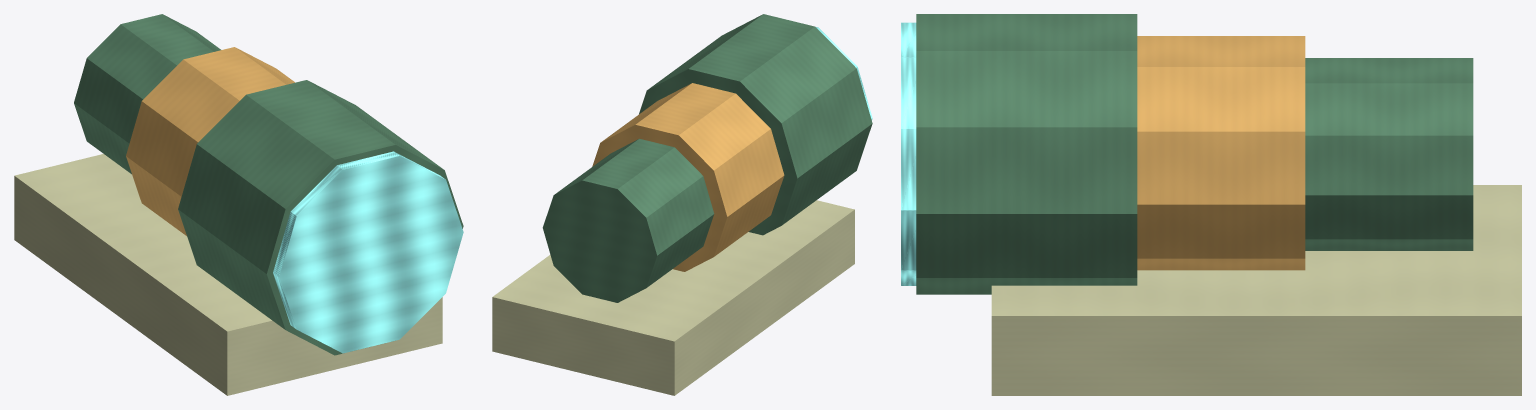
Rendered from atlas100-s003-a05.glb.
3 views of the same model, side by side, from view 1: azimuth 30°, elevation 25°; view 2: azimuth 150°, elevation 25°; view 3: azimuth 270°, elevation 25° (orthographic). The views are drawn at different scales.
Visible parts, largest first — view 1: atlas100-s003-a05:part-004, atlas100-s003-a05:part-003, atlas100-s003-a05:part-002, atlas100-s003-a05:part-001, atlas100-s003-a05:part-000; view 2: atlas100-s003-a05:part-004, atlas100-s003-a05:part-002, atlas100-s003-a05:part-000, atlas100-s003-a05:part-001; view 3: atlas100-s003-a05:part-004, atlas100-s003-a05:part-002, atlas100-s003-a05:part-001, atlas100-s003-a05:part-000, atlas100-s003-a05:part-003.
Boxes of the visible parts, <box> form: atlas100-s003-a05:part-004: <box>14,154,442,395</box>; atlas100-s003-a05:part-003: <box>273,151,463,353</box>; atlas100-s003-a05:part-002: <box>178,80,463,355</box>; atlas100-s003-a05:part-001: <box>126,47,294,235</box>; atlas100-s003-a05:part-000: <box>74,14,220,174</box>; atlas100-s003-a05:part-004: <box>492,200,854,395</box>; atlas100-s003-a05:part-002: <box>639,14,872,235</box>; atlas100-s003-a05:part-000: <box>542,138,714,302</box>; atlas100-s003-a05:part-001: <box>592,83,784,271</box>; atlas100-s003-a05:part-004: <box>991,185,1521,395</box>; atlas100-s003-a05:part-002: <box>916,14,1137,294</box>; atlas100-s003-a05:part-001: <box>1137,36,1305,270</box>; atlas100-s003-a05:part-000: <box>1305,58,1473,250</box>; atlas100-s003-a05:part-003: <box>901,22,916,285</box>.
Size of the model in its own units: 0.3822 by 0.4064 by 0.7671.
Materials: 4 (4 with a texture image).
